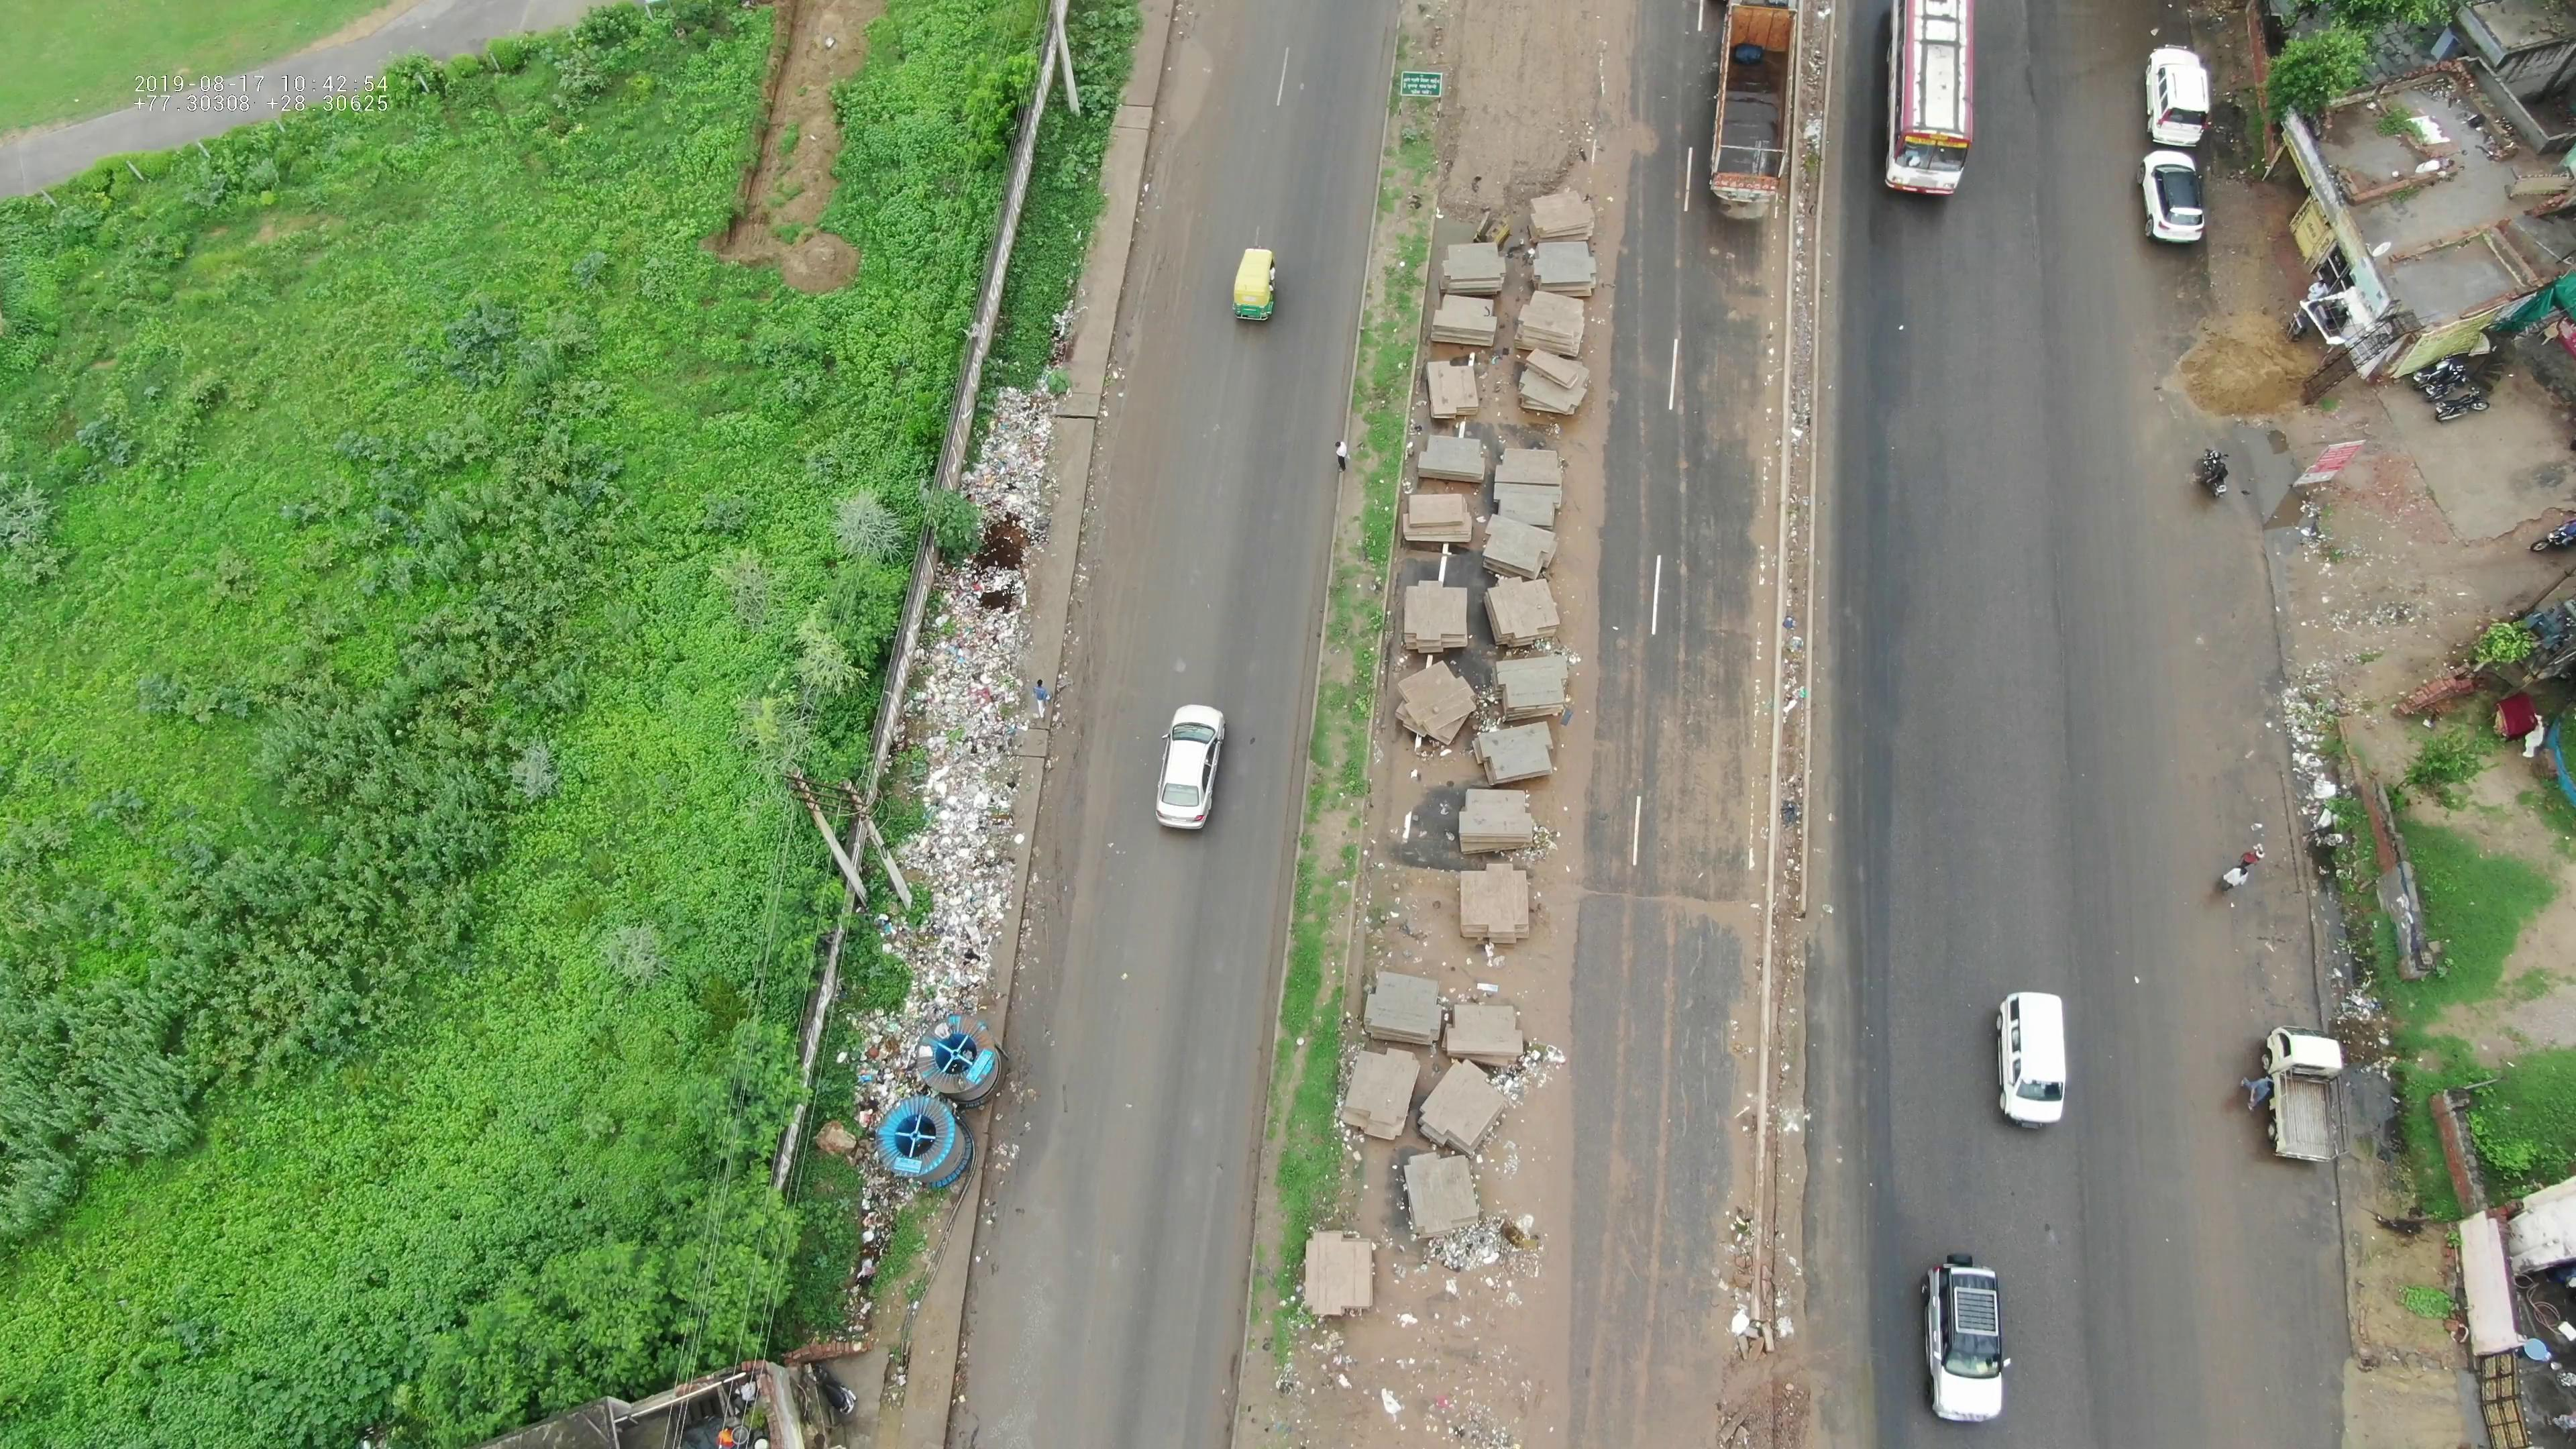Muddy_road: (2176, 285, 2288, 428)
Road_side_garbage: (892, 644, 1014, 998), (939, 357, 1046, 628)
